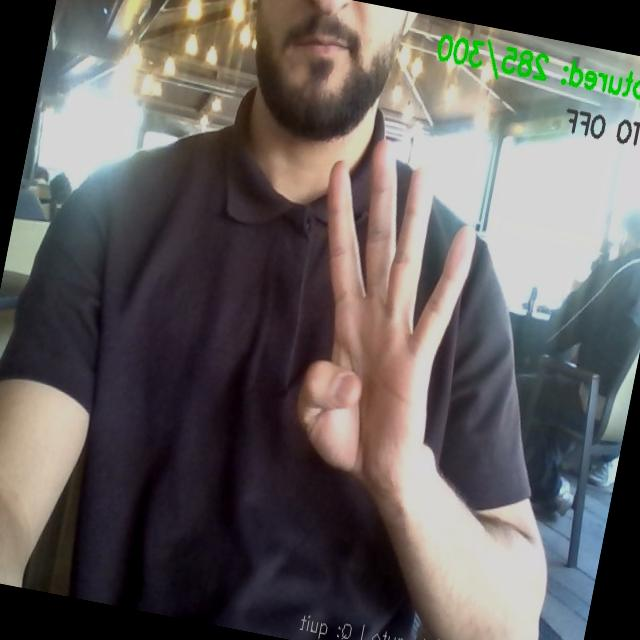Hand: (298, 142, 474, 491)
